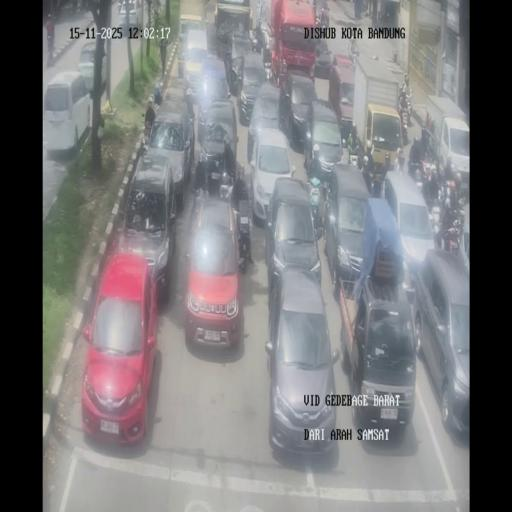3: (352, 54, 403, 162), (269, 0, 318, 84), (424, 98, 470, 186), (213, 2, 254, 60)
car: (80, 254, 158, 445), (266, 270, 338, 459), (342, 268, 418, 438), (412, 250, 469, 440), (183, 194, 244, 350), (383, 168, 438, 292), (325, 164, 372, 293), (143, 99, 195, 205), (249, 126, 295, 230), (42, 72, 92, 156), (196, 102, 239, 190), (306, 100, 344, 181), (236, 52, 266, 124), (183, 29, 208, 97), (78, 40, 107, 94), (116, 0, 142, 33), (313, 40, 333, 78)
truck: (236, 210, 254, 268), (308, 180, 325, 237), (189, 185, 204, 236), (441, 177, 462, 213), (430, 200, 446, 243), (346, 131, 364, 169), (407, 152, 427, 186), (423, 164, 440, 204), (442, 222, 461, 255), (262, 36, 273, 80), (253, 19, 265, 54), (142, 113, 154, 144), (370, 176, 384, 198), (400, 117, 410, 147), (348, 45, 360, 67), (395, 146, 405, 172), (319, 6, 329, 29), (53, 0, 62, 21), (361, 0, 368, 17), (76, 0, 82, 14)
